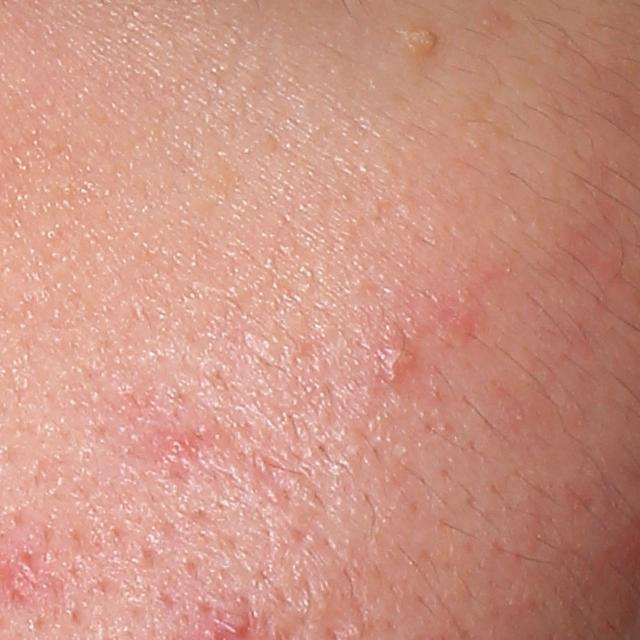other: (399, 23, 444, 63)
papule: (374, 335, 422, 398)
